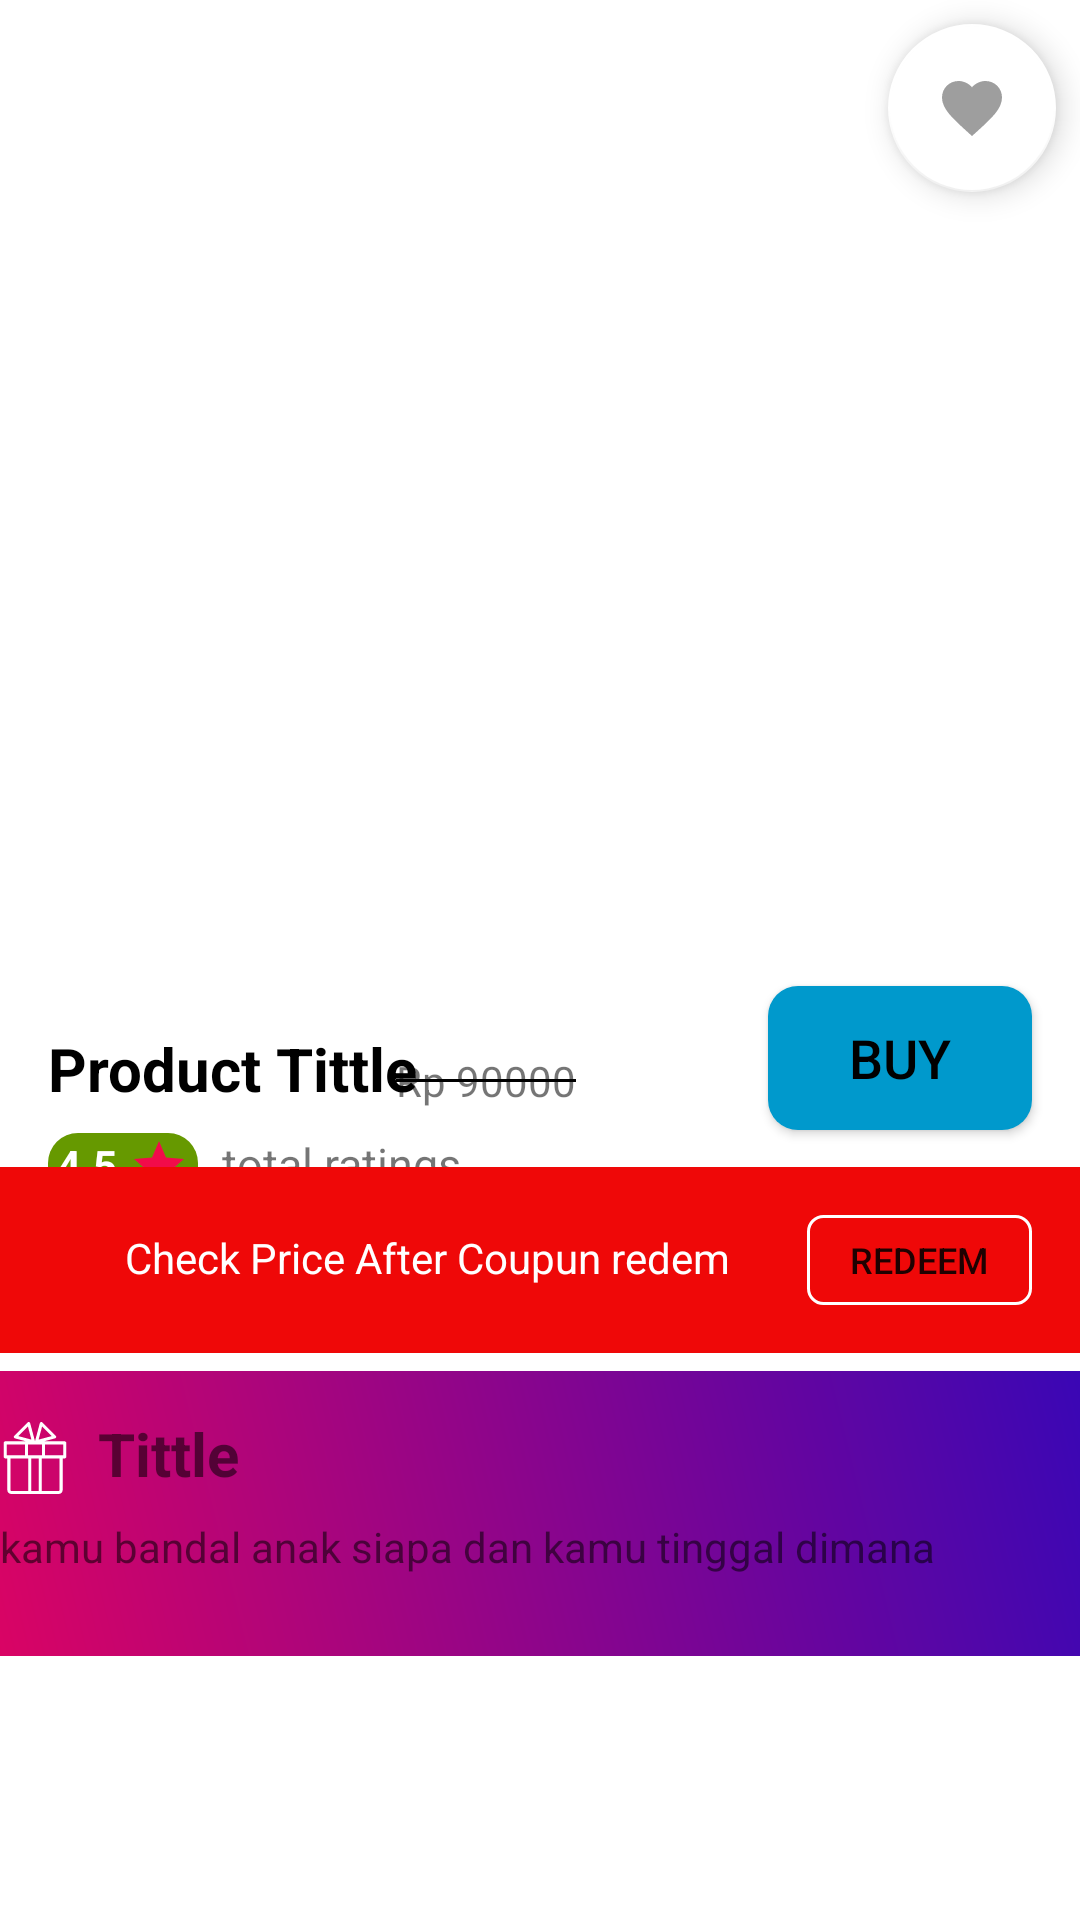

Icons on this 1080 x 1920 Android screen, each with its box as (x1, y1, x2, y2):
present: (3, 1422, 67, 1494)
